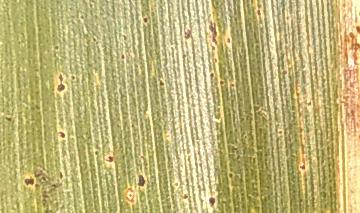tarspot: (205, 18, 220, 45), (53, 71, 67, 94), (180, 26, 195, 41), (102, 150, 117, 164), (136, 170, 147, 189), (54, 169, 68, 182), (21, 177, 37, 188), (206, 194, 218, 208), (154, 76, 165, 89), (138, 15, 152, 25), (56, 128, 67, 140), (51, 42, 63, 52), (1, 114, 14, 123), (297, 162, 308, 172), (179, 191, 190, 201), (253, 8, 266, 16), (207, 70, 217, 80), (217, 77, 226, 88), (224, 34, 233, 45), (120, 51, 128, 63), (121, 31, 129, 43), (224, 171, 234, 180), (171, 179, 180, 189), (92, 148, 101, 156)
